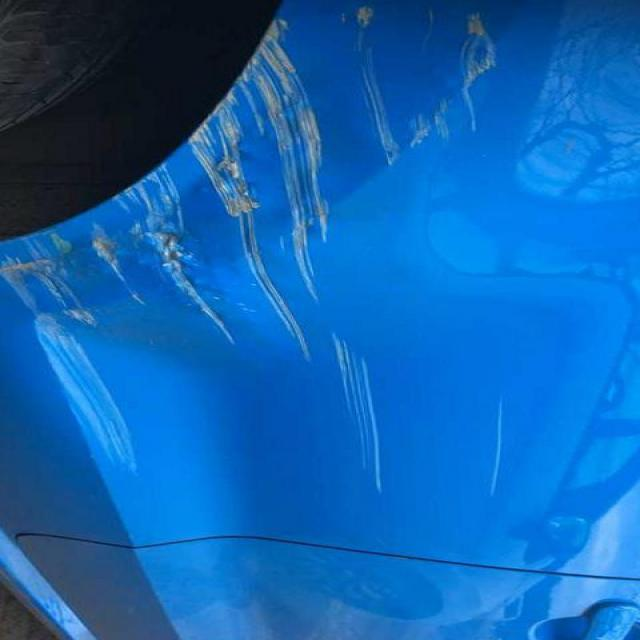scratch: (0, 18, 531, 353), (25, 304, 196, 480), (314, 317, 418, 498), (471, 388, 522, 512)
